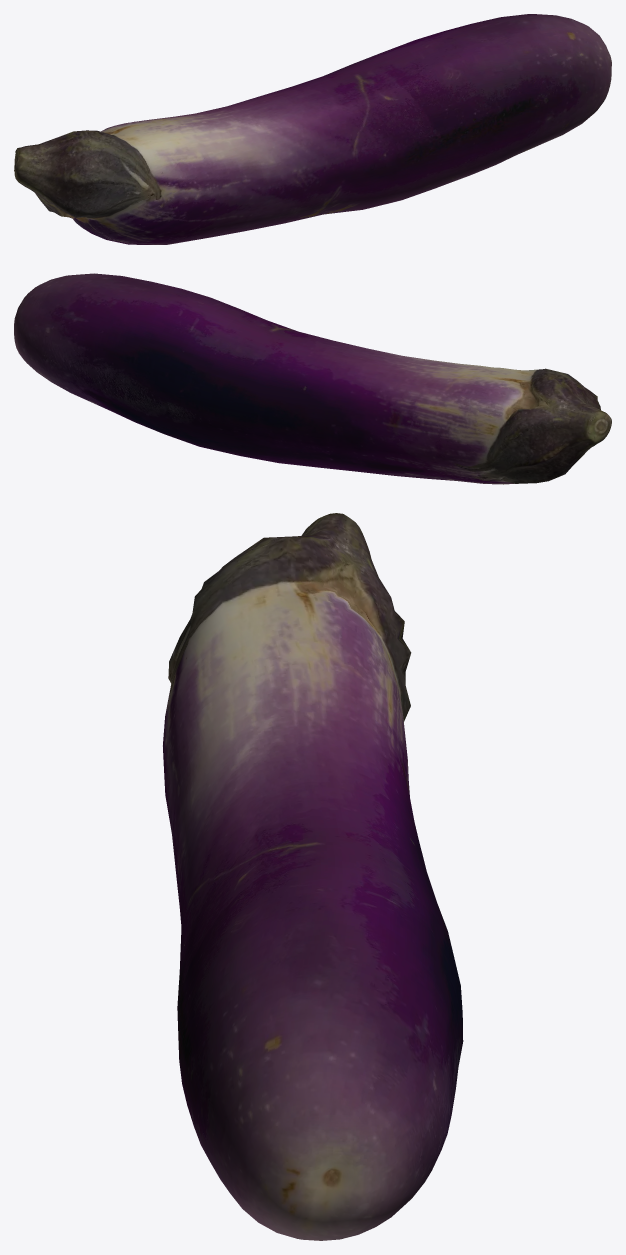
File: realbrinjal.glb
3 renders of one model, top to bottom at view 1: azimuth 30°, elevation 25°; view 2: azimuth 150°, elevation 25°; view 3: azimuth 270°, elevation 25°, orthographic. The views are drawn at different scales.
Visible parts, largest first — view 1: Eggplant; view 2: Eggplant; view 3: Eggplant.
Part boxes in pixels (x1=…): Eggplant: x1=14, y1=14, x2=611, y2=244; Eggplant: x1=14, y1=273, x2=611, y2=484; Eggplant: x1=163, y1=513, x2=463, y2=1240.
Bounding box in the file's own units: 0.25 × 0.0587 × 0.0556.
Materials: 1 (1 with a texture image).
